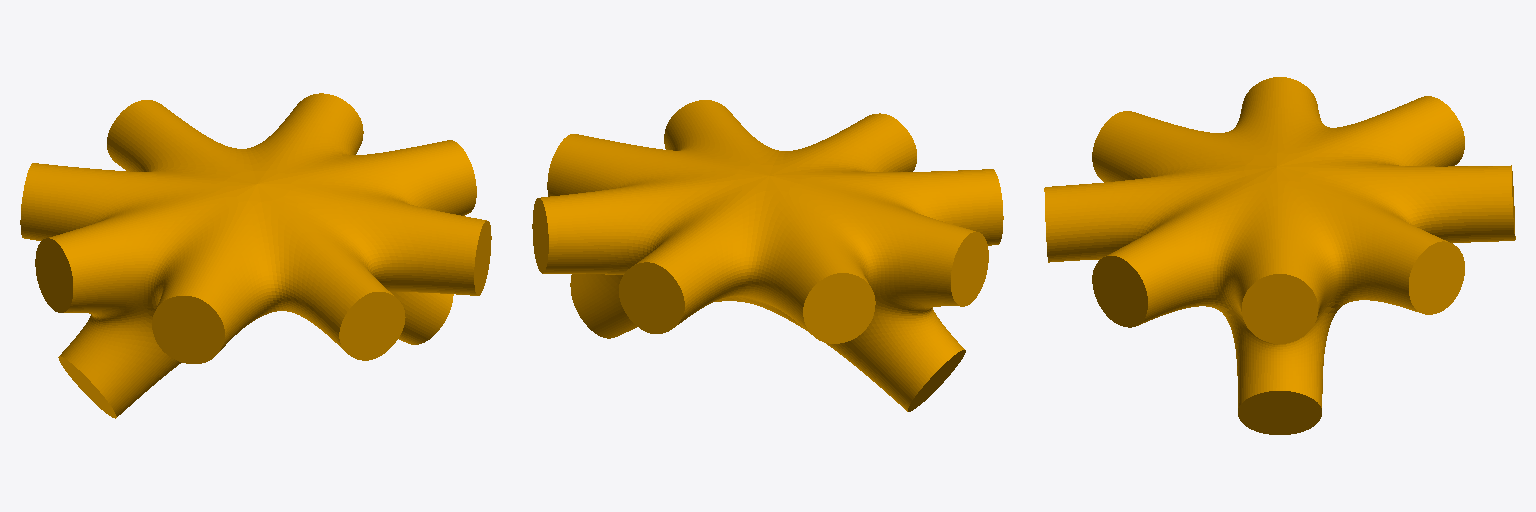
URDF robot description (object):
<robot name="object">
  <link name="object">
    <visual>
      <origin xyz="0 0 0"/>
      <geometry>
        <mesh filename="visual.obj" scale="1 1 1"/>
      </geometry>
    </visual>
    <collision>
      <origin xyz="0 0 0"/>
      <geometry>
        <mesh filename="visual.obj" scale="1 1 1"/>
      </geometry>
    </collision>
    <inertial>
      <mass value="0.05"/>
      <inertia ixx="9.773534178504556e-05" iyy="0.00014634228755977852" izz="0.0002083031707012367" ixy="3.3669391534773247e-09" ixz="-1.4723720785714392e-07" iyz="-3.596380025368743e-06"/>
    </inertial>
  </link>
</robot>

--- Facts derived from the render (not from the file) ---
3 views of the same robot in one strip: view 1: azimuth 30°, elevation 25°; view 2: azimuth 150°, elevation 25°; view 3: azimuth 270°, elevation 25° (orthographic).
Model object with 1 links and 0 joints (none), rooted at object, posed all joints at 0.
Links seen in each view (by area): view 1: object; view 2: object; view 3: object.
Link boxes in pixels (<box>): object: <box>20,93,491,418</box>; object: <box>532,100,1003,411</box>; object: <box>1044,77,1515,434</box>.
Bounding box of the posed robot: 0.2161 × 0.217 × 0.0995 m (x, y, z).
Meshes: 1 distinct files referenced, 1 mesh visuals loaded (1 OBJ).
